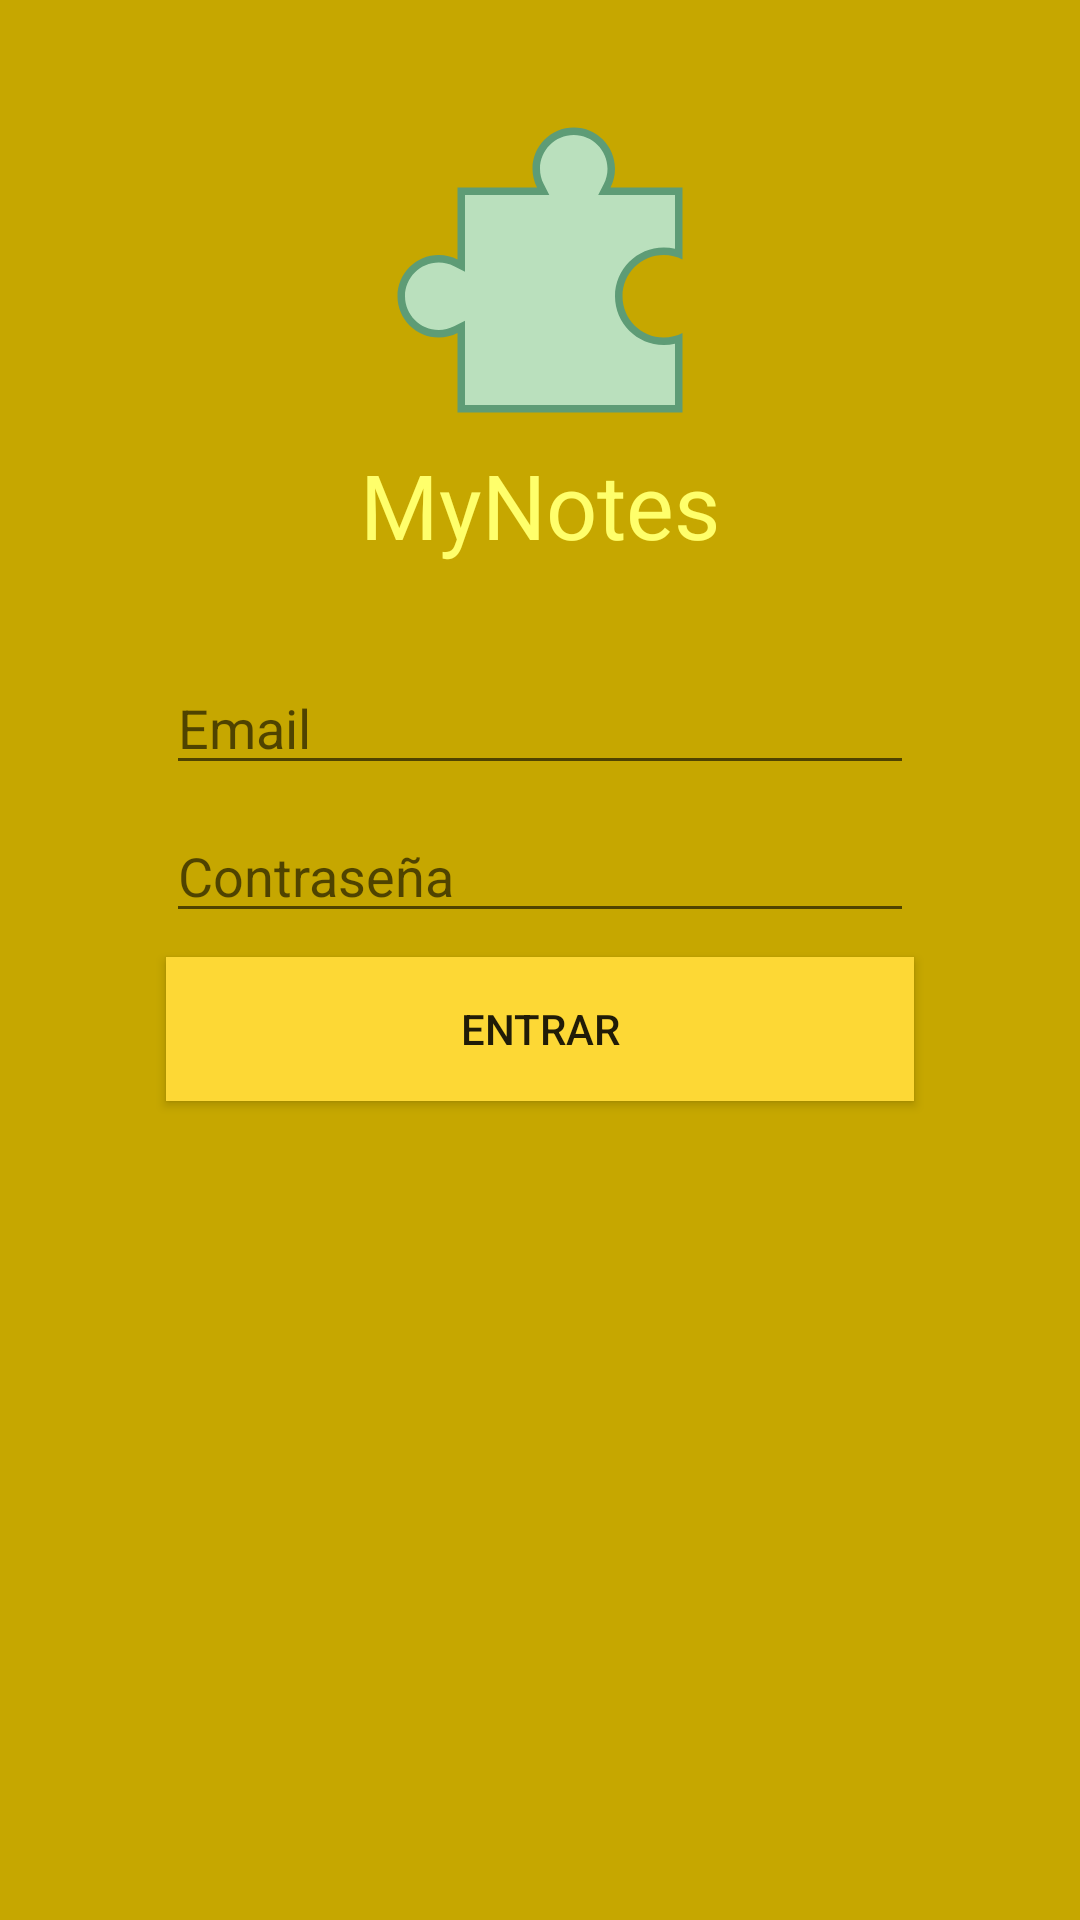

Where icons sit on this 1080×1920 app screen, as (x1, y1, x2, y2):
puzzle: (397, 127, 683, 413)
